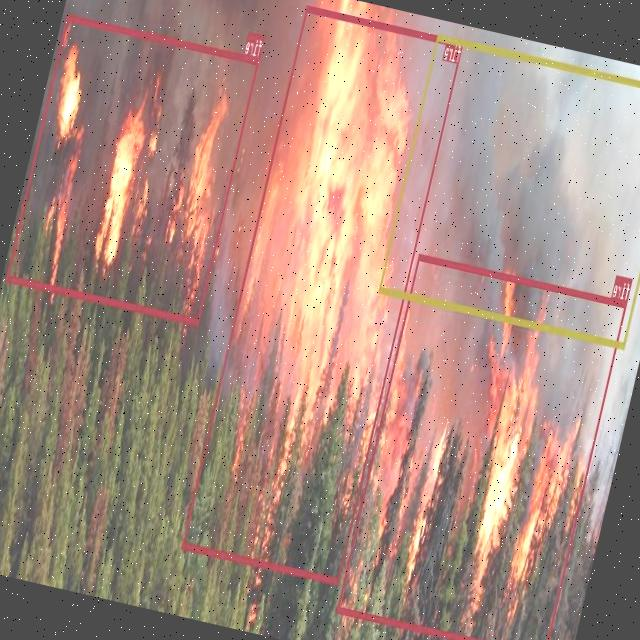fire: (182, 5, 464, 584), (336, 253, 627, 640), (6, 13, 260, 324)
smoke: (378, 33, 640, 348)
